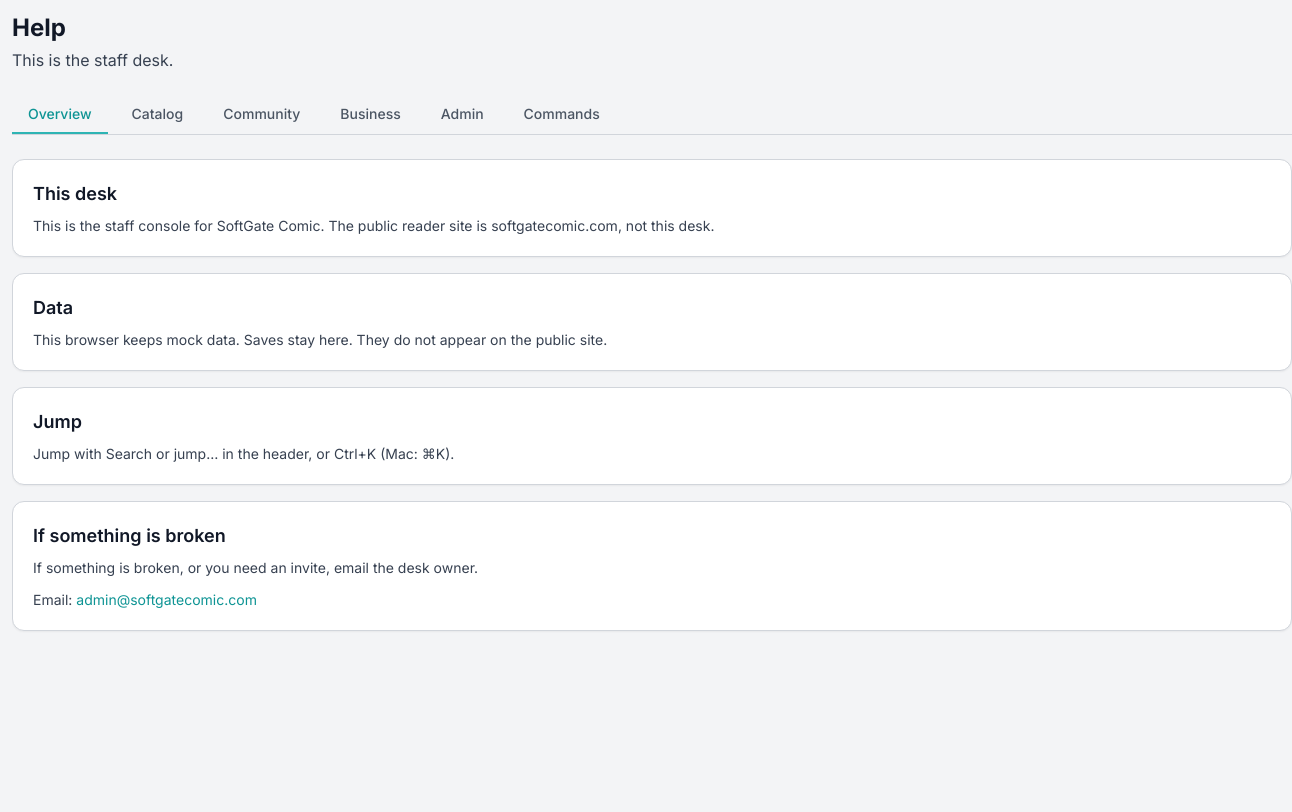
Test: HelpPage › shows community mock copy for Member and Viewer, not viewer-only
What coordinates should you click on to do the following:
click the tab "Community"
I would click on:
 (262, 115)
Its box is [207,96,316,134].
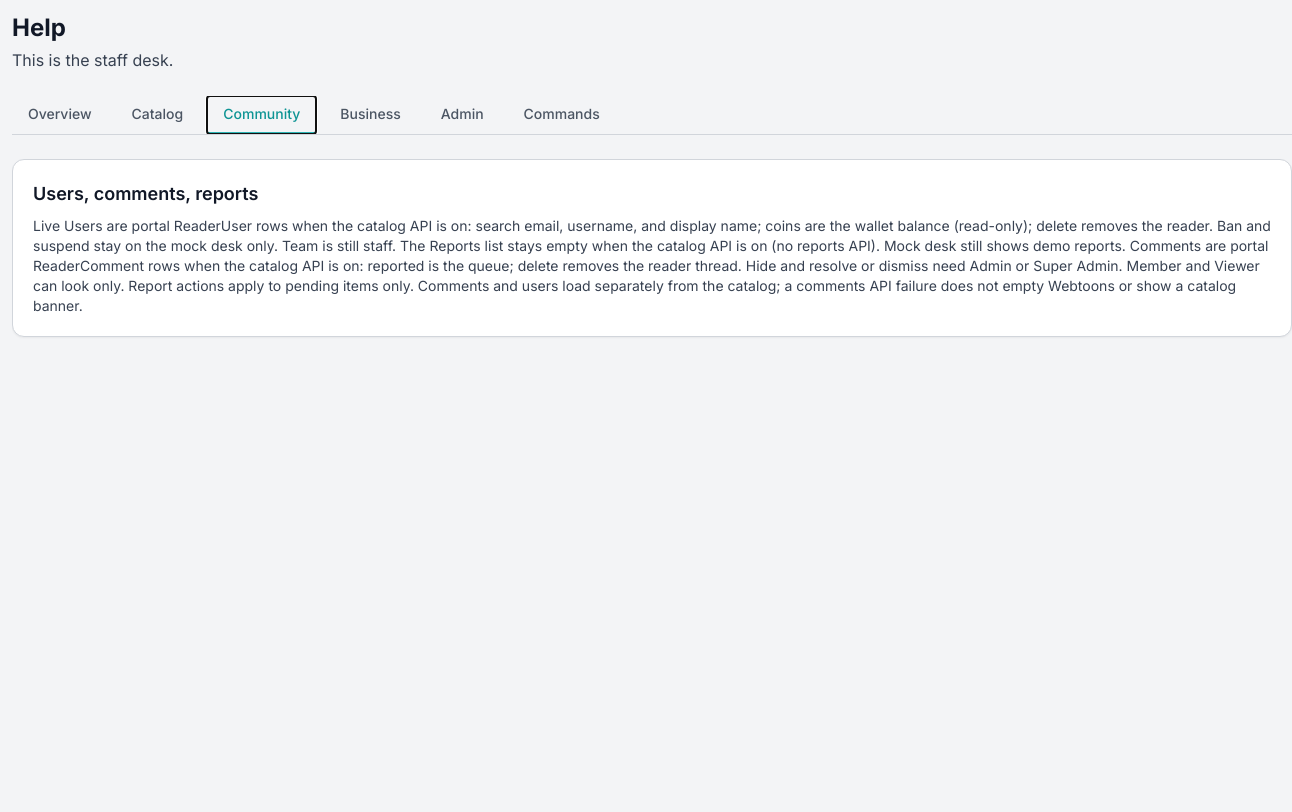
Expected: the text "Member and Viewer can look only" is shown, [33,217,1271,314]
